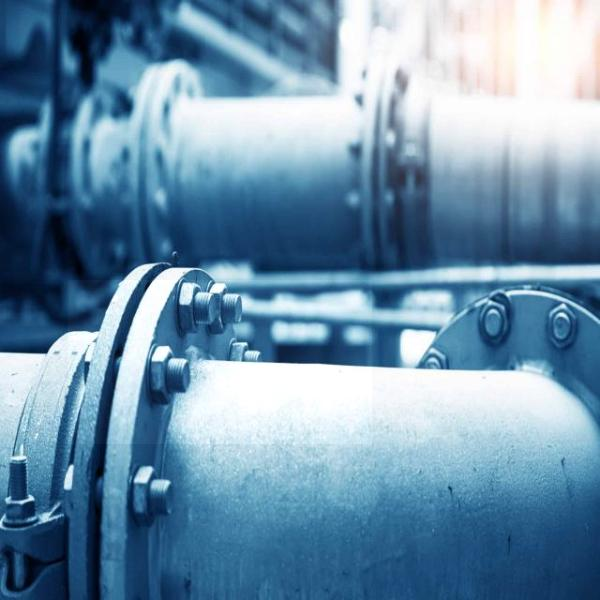no leak: (68, 280, 372, 444)
